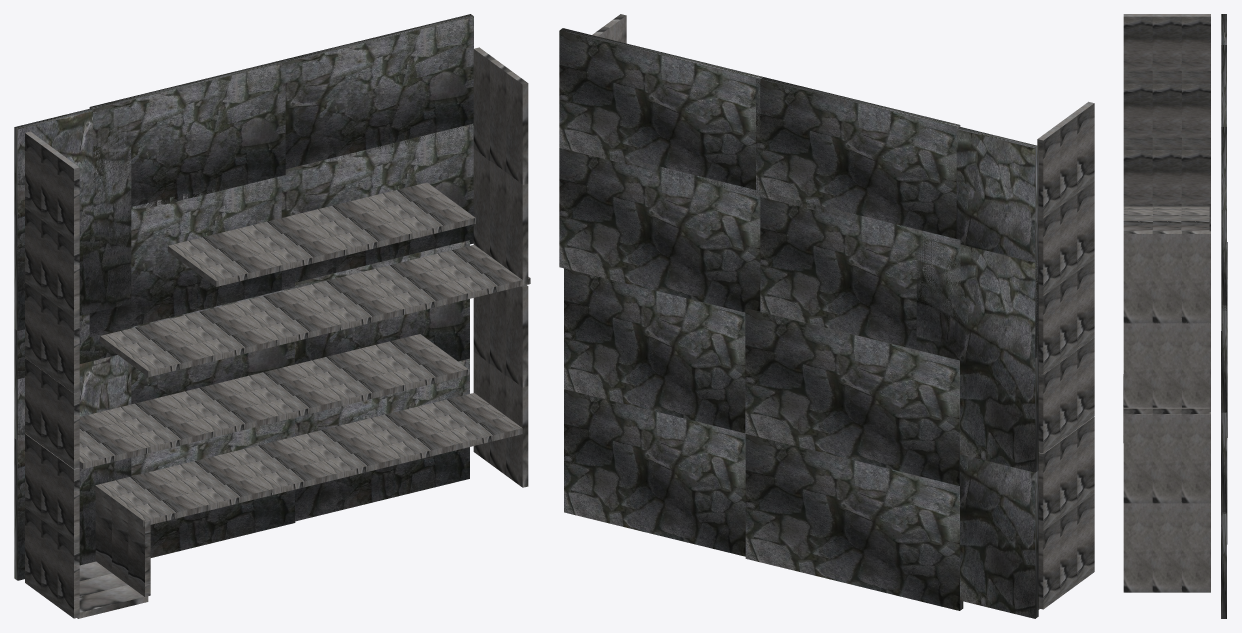
The model's file is Level2.obj.
3 renders of one model, left to right at view 1: azimuth 30°, elevation 25°; view 2: azimuth 150°, elevation 25°; view 3: azimuth 270°, elevation 25°, orthographic. The views are drawn at different scales.
Parts seen in each view (by area): view 1: Cube.008_Cube.012, Cube.010_Cube.014, Cube.002_Cube.009.000, Cube.011_Cube.015, Cube.001_Cube.008.000, Cube.005_Cube.018, Cube.003_Cube.016, Cube.007_Cube.011, Cube.004_Cube.017, Cube_Cube.001.000, Cube.005_Cube.006, Cube.005_Cube.001 (+98 smaller); view 2: Cube_Cube.001.000, Cube.003_Cube.016, Cube.001_Cube.008.000, Cube.008_Cube.012, Cube.010_Cube.014, Cube.005_Cube.018, Cube.004_Cube.017, Cube.002_Cube.009.000, Cube.006_Cube.010, Cube.007_Cube.011, Cube.011_Cube.015, Cube.001_Cube.017 (+17 smaller); view 3: Cube.005_Cube.005, Cube.005_Cube.006, Cube.005_Cube.004, Cube.005_Cube.012, Cube.005_Cube.011, Cube.005_Cube.008, Cube.005_Cube.007, Cube.005_Cube.009, Cube.005_Cube.010, Cube.005_Cube.001, Cube.005_Cube.002, Cube.005_Cube.003 (+22 smaller).
Boxes of the visible parts, box(x1,y1,x2,y2) form: Cube.008_Cube.012: box(279, 14, 473, 169); Cube.010_Cube.014: box(89, 60, 285, 209); Cube.002_Cube.009.000: box(89, 176, 281, 336); Cube.011_Cube.015: box(14, 105, 131, 330); Cube.001_Cube.008.000: box(281, 123, 473, 290); Cube.005_Cube.018: box(295, 358, 469, 521); Cube.003_Cube.016: box(131, 417, 295, 557); Cube.007_Cube.011: box(14, 355, 131, 580); Cube.004_Cube.017: box(294, 240, 469, 364); Cube_Cube.001.000: box(131, 287, 294, 404); Cube.005_Cube.006: box(506, 71, 528, 184); Cube.005_Cube.001: box(506, 172, 528, 284); Cube_Cube.001.000: box(745, 308, 959, 485); Cube.003_Cube.016: box(745, 434, 963, 610); Cube.001_Cube.008.000: box(559, 143, 760, 312); Cube.008_Cube.012: box(559, 28, 762, 195); Cube.010_Cube.014: box(756, 77, 960, 238); Cube.005_Cube.018: box(564, 389, 745, 556); Cube.004_Cube.017: box(564, 268, 745, 433); Cube.002_Cube.009.000: box(759, 192, 960, 349); Cube.006_Cube.010: box(916, 235, 1038, 472); Cube.007_Cube.011: box(960, 454, 1038, 618); Cube.011_Cube.015: box(917, 120, 1038, 357); Cube.001_Cube.017: box(1037, 126, 1060, 218); Cube.005_Cube.005: box(1152, 231, 1181, 323); Cube.005_Cube.006: box(1123, 231, 1152, 323); Cube.005_Cube.004: box(1181, 231, 1210, 323); Cube.005_Cube.012: box(1123, 503, 1152, 592); Cube.005_Cube.011: box(1152, 503, 1181, 592); Cube.005_Cube.008: box(1152, 414, 1181, 503); Cube.005_Cube.007: box(1123, 414, 1152, 503); Cube.005_Cube.009: box(1181, 412, 1210, 503); Cube.005_Cube.010: box(1181, 503, 1210, 592); Cube.005_Cube.001: box(1123, 322, 1152, 407); Cube.005_Cube.002: box(1152, 322, 1181, 407); Cube.005_Cube.003: box(1181, 322, 1210, 411).
Size of the model in its own units: 16.13 by 15.58 by 3.58.
Materials: 107 (107 with a texture image).
